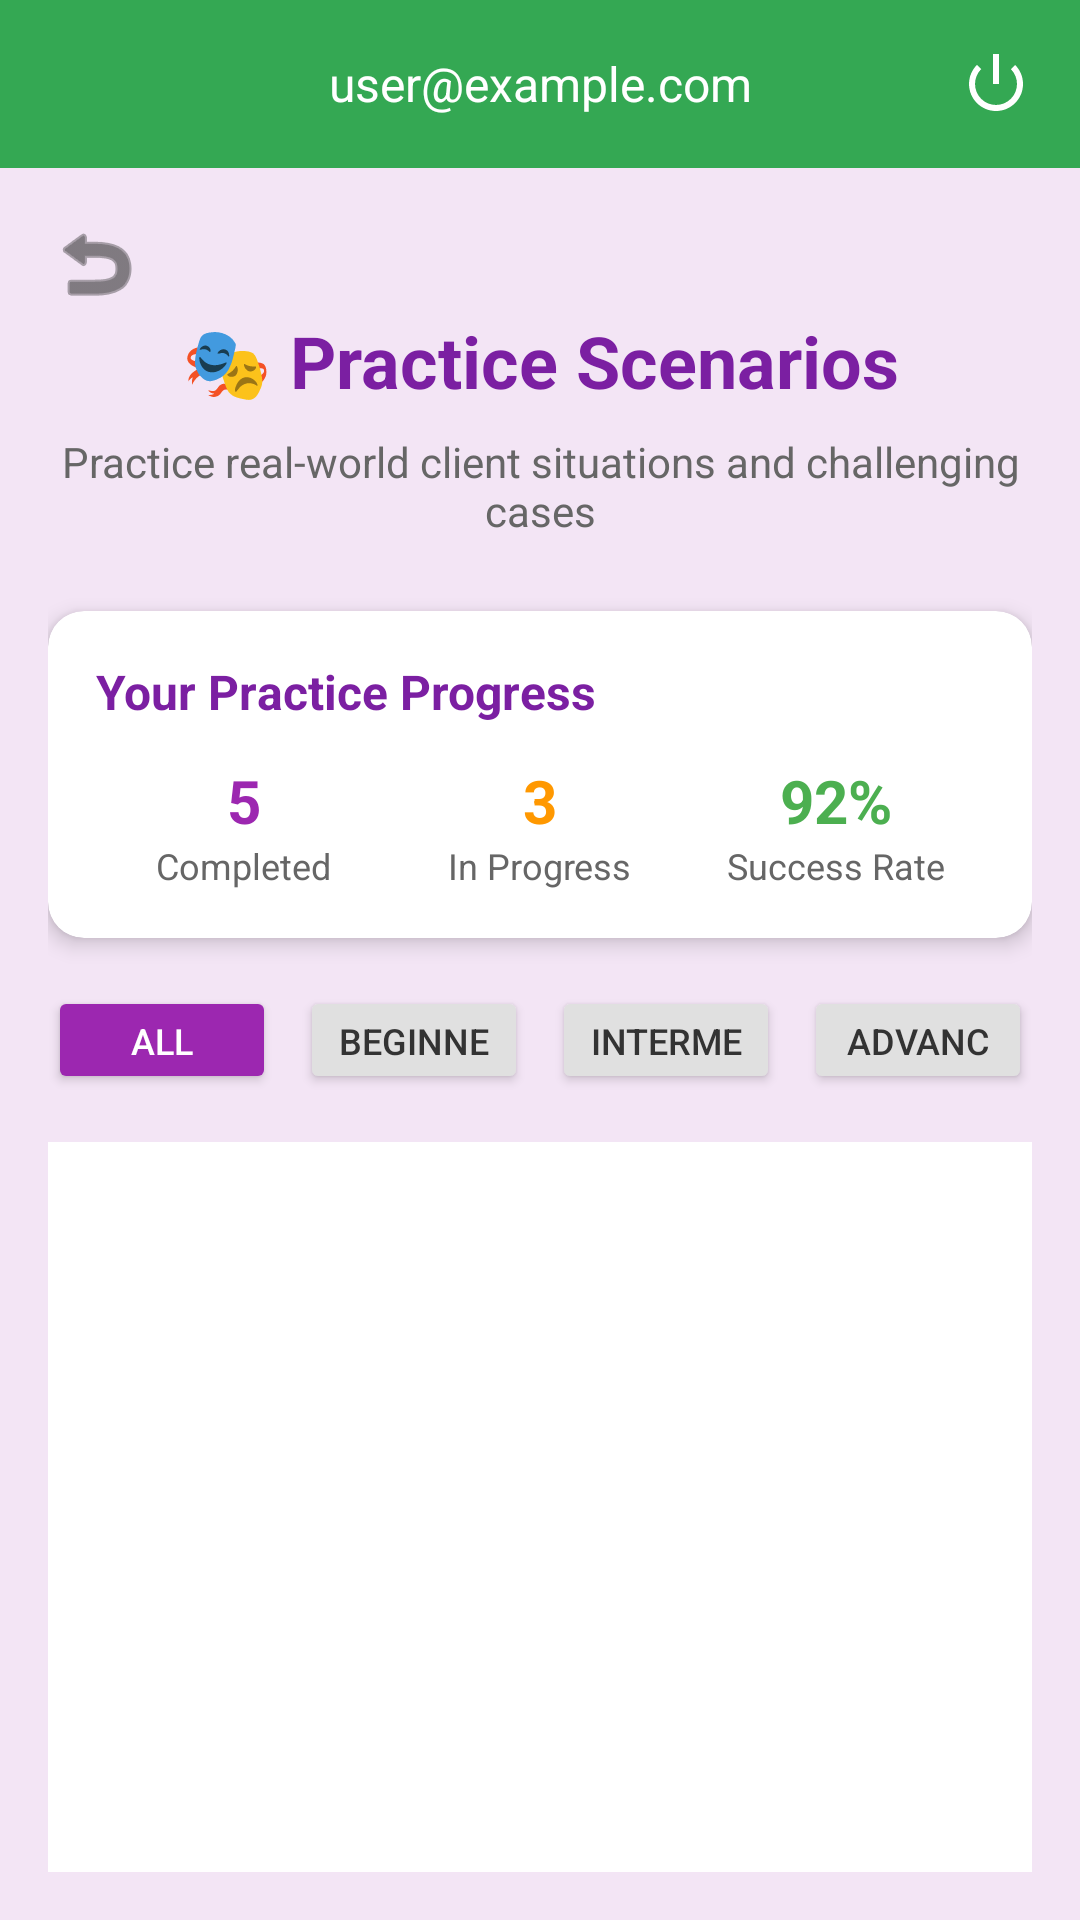

Icon click points for this 1080 × 1920 phone screenshot, format (x=x, y=y):
Back: (x=97, y=264)
